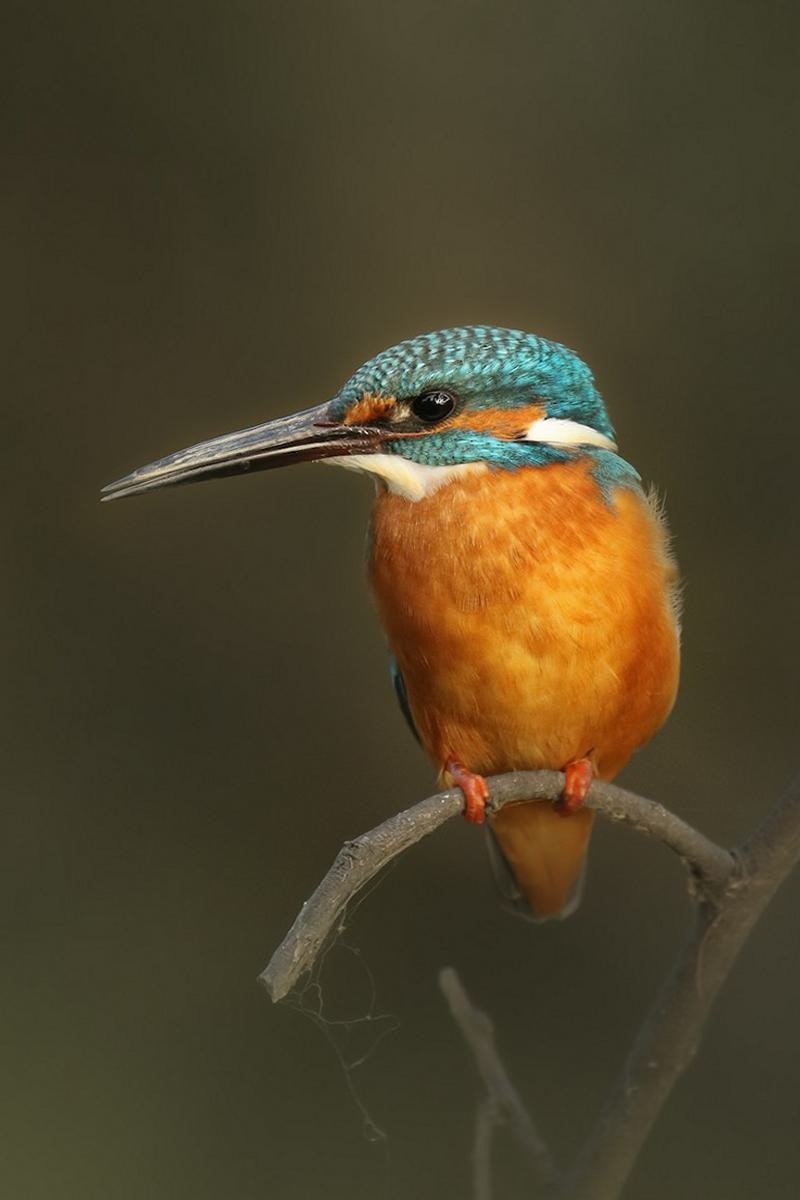kingfisher: (96, 314, 700, 913)
